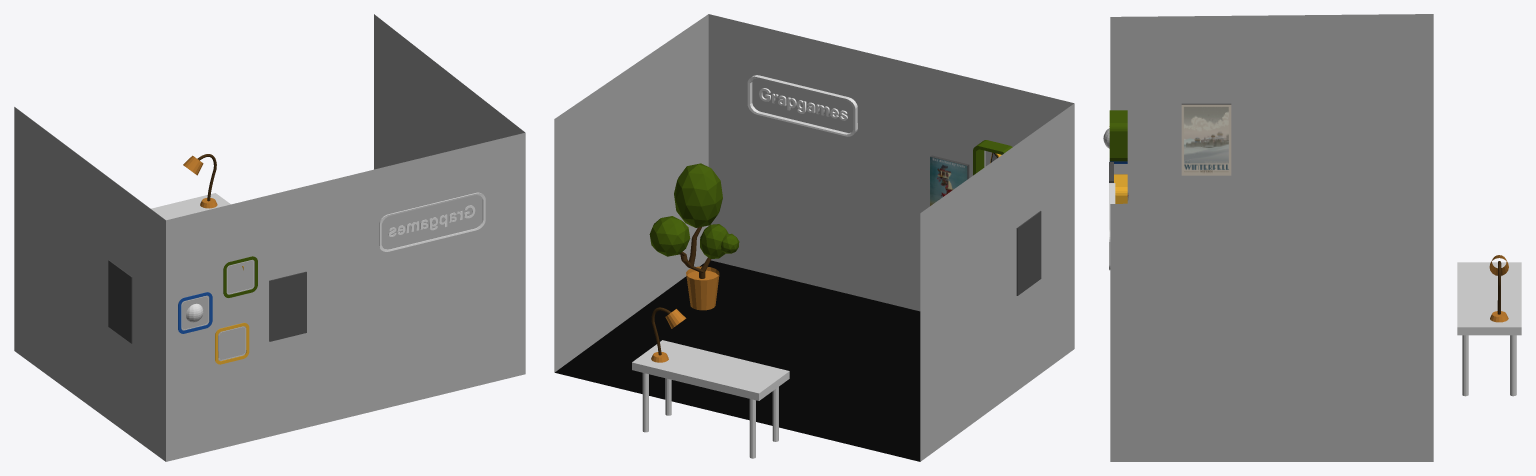
The model's file is mini_game_click.fbx.
3 renders of one model, left to right at view 1: azimuth 30°, elevation 25°; view 2: azimuth 150°, elevation 25°; view 3: azimuth 270°, elevation 25°, orthographic. The views are drawn at different scales.
Visible parts, largest first — view 1: room; view 2: room, poster 1; view 3: room, poster 2.
Part boxes in pixels (x1,y1,x2,y2): room: (14, 14, 525, 461); room: (554, 14, 1074, 461); poster 1: (930, 157, 967, 205); room: (1103, 14, 1521, 461); poster 2: (1181, 104, 1231, 175).
Size of the model in its own units: 1399 by 928 by 1317.
